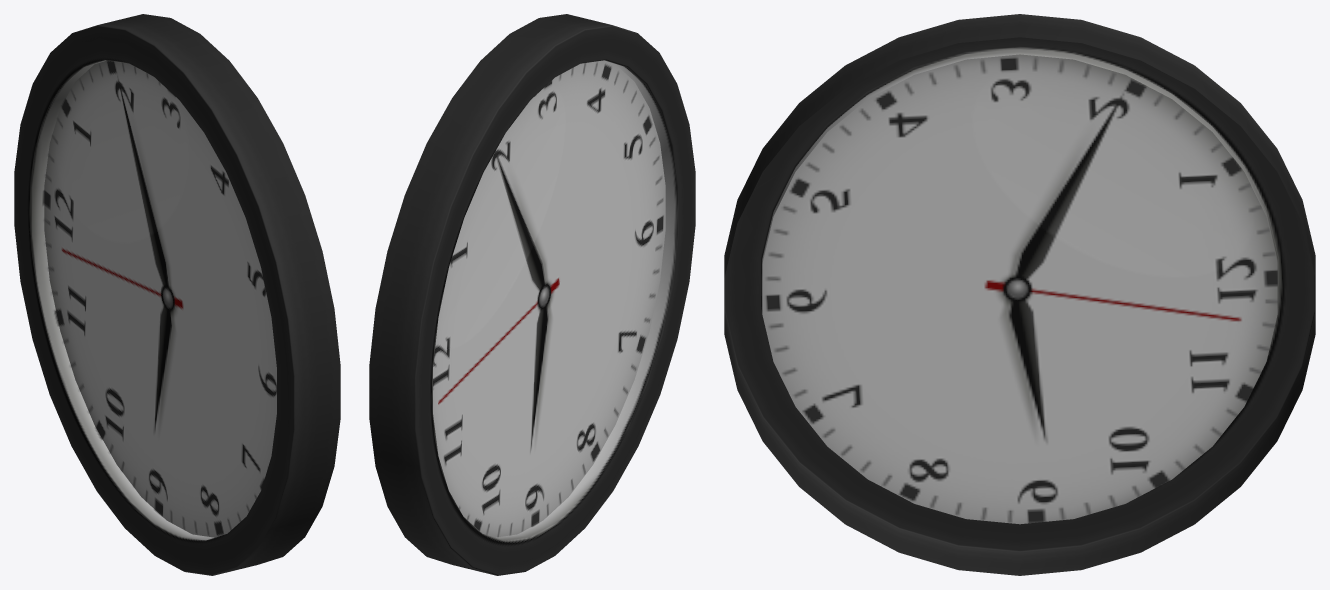
The model's file is Clock.fbx.
The picture shows the model from 3 angles, left to right: view 1: azimuth 30°, elevation 25°; view 2: azimuth 150°, elevation 25°; view 3: azimuth 270°, elevation 25°; orthographic projection. The views are drawn at different scales.
Visible parts, largest first — view 1: Clock; view 2: Clock; view 3: Clock.
Part boxes in pixels (left/top/right/bottom): Clock: left=14, top=14, right=340, bottom=575; Clock: left=369, top=14, right=695, bottom=575; Clock: left=724, top=14, right=1315, bottom=575.
Bounding box in the file's own units: 3.67 × 38.51 × 38.3.
